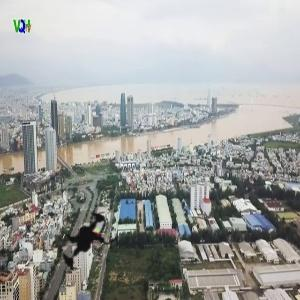drone: (39, 195, 142, 298)
